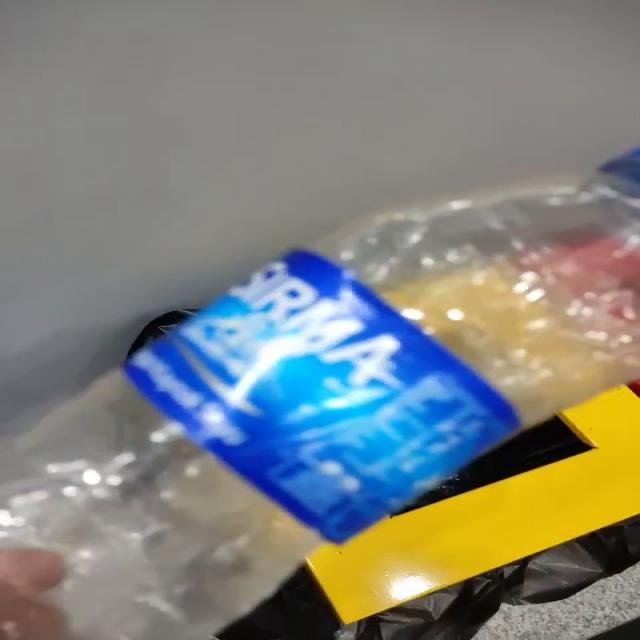plastic: (1, 152, 640, 640)
